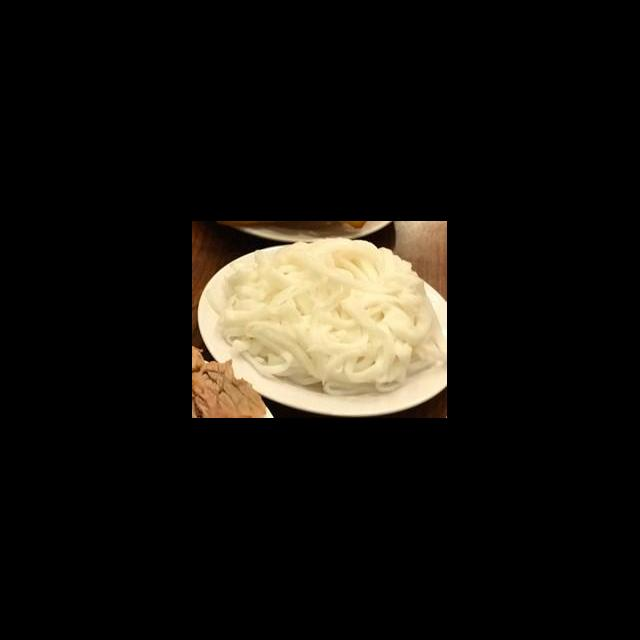banh pho: (202, 236, 448, 402)
thit bo: (193, 346, 270, 418)
